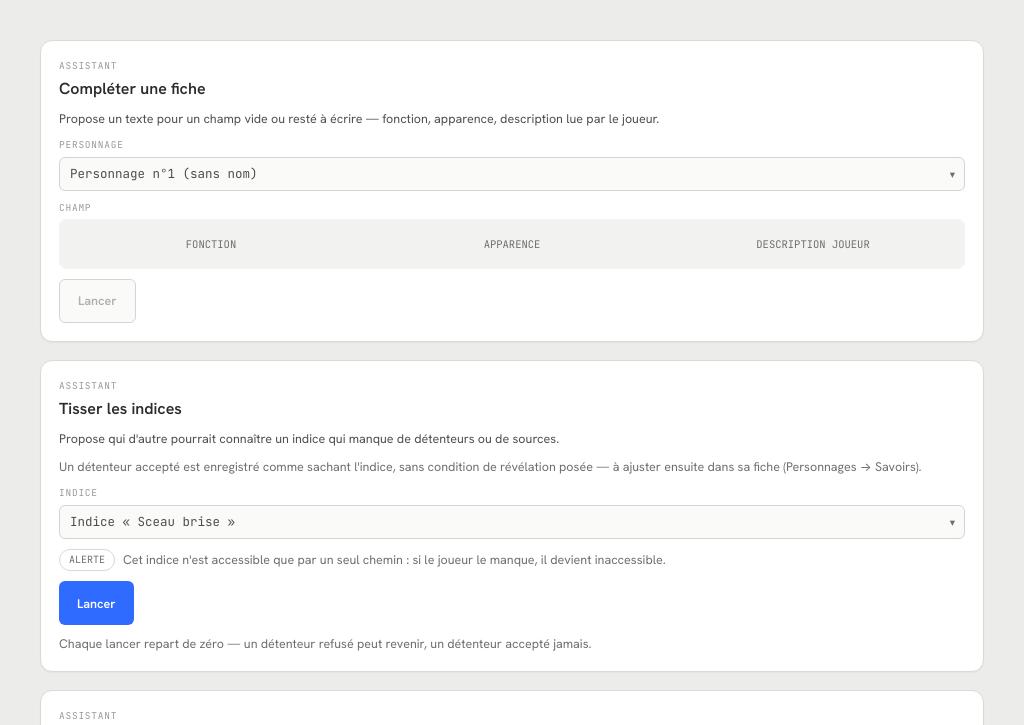
Test case: detenteurs - le gel (§ 3.6) › a DEUX constats, le Select reste sur la cible gelee et ne bascule pas sur l autre
Check: the dropdown labelled "INDICE ▾" shows "Indice « Sceau brise »", box [59,505,965,539]
Click the button "Lancer" below "ALERTE" at (96, 603), box [59,581,134,625]
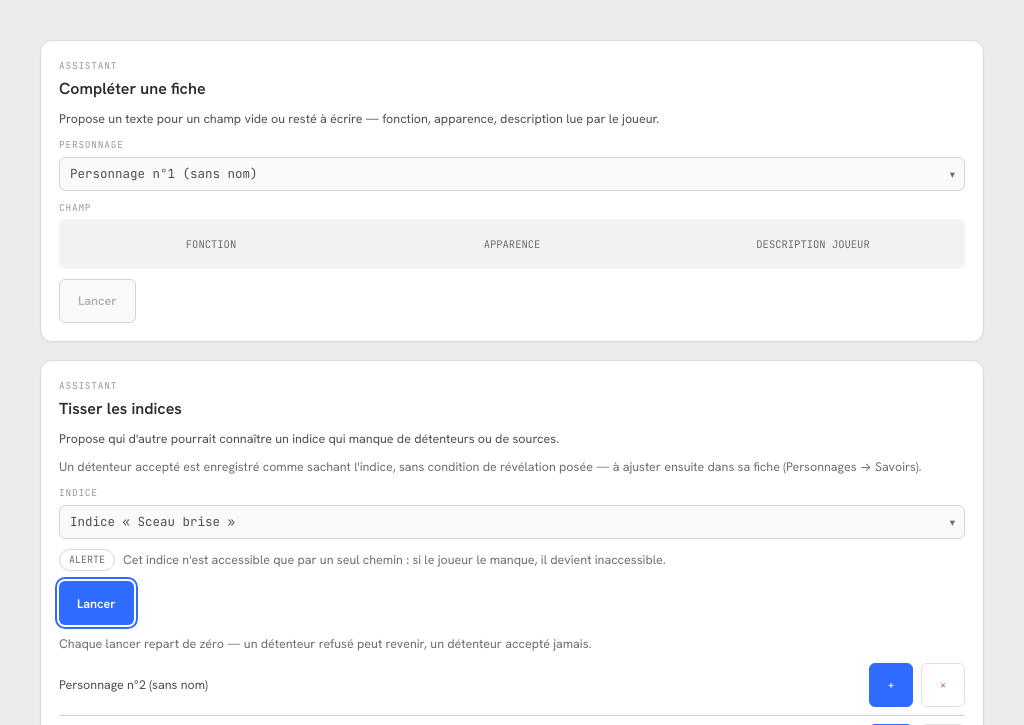
Click the button named "Accepter la proposition" at (891, 686), box [869,664,913,708]
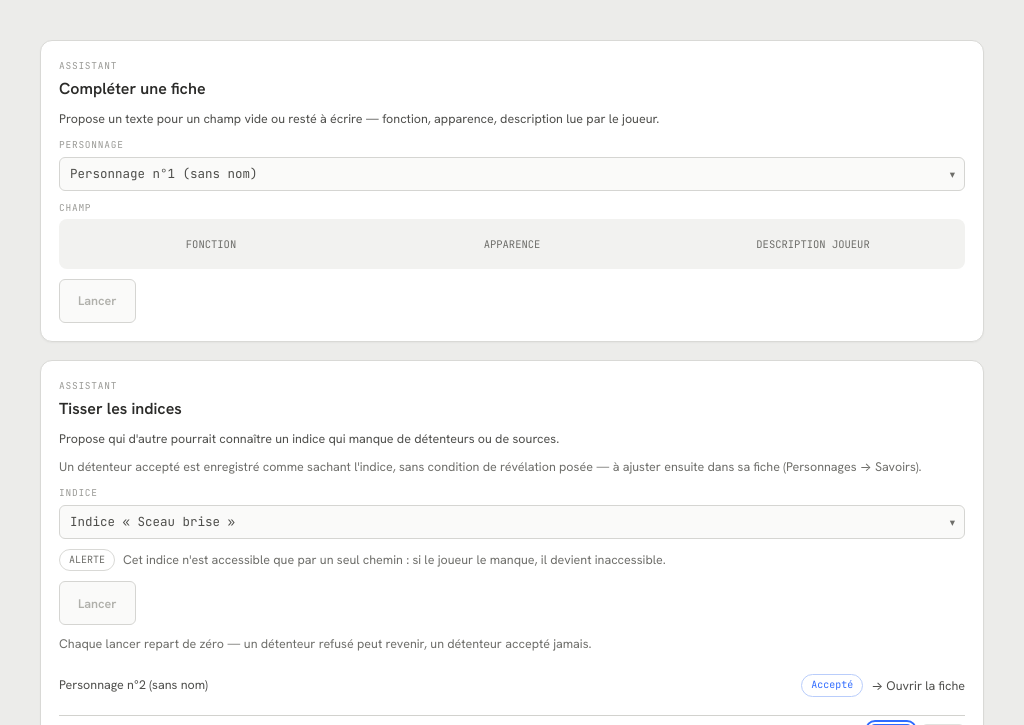
Check: the text "Accepté" is shown once, box [801,674,863,697]
Check: the button "Lancer" below "ALERTE" is disabled, box [59,581,136,625]
Select "Indice « Clef rouillee »" in the dropdown labelled "INDICE ▾" at (512, 522), box [59,505,965,539]
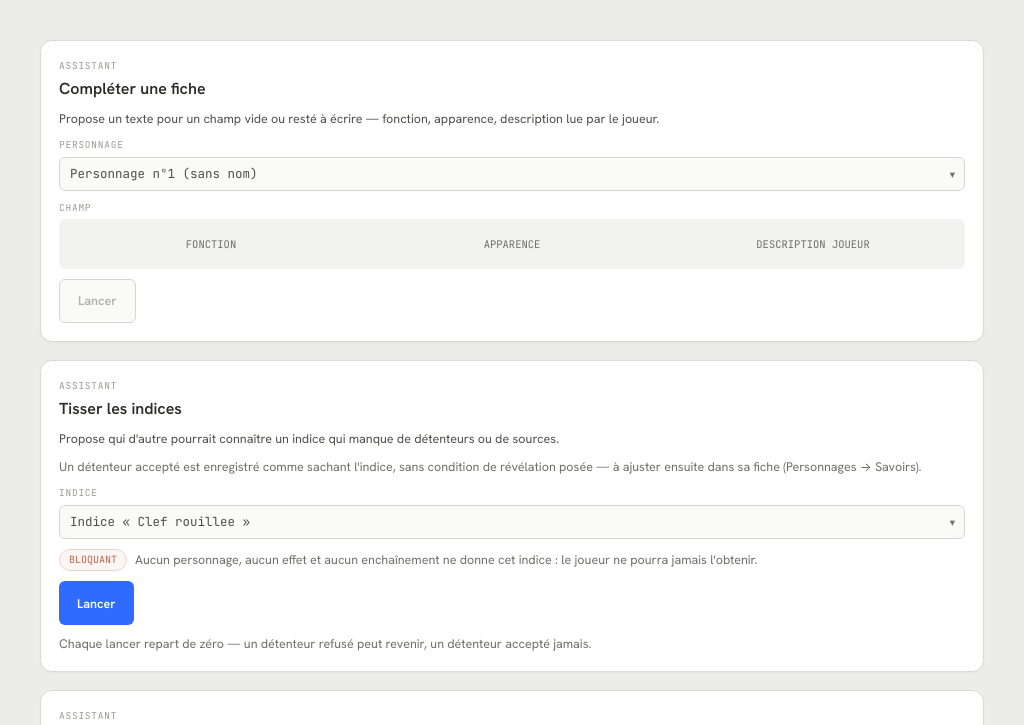
Check: the button "Lancer" below "BLOQUANT" is enabled, box [59,581,134,625]
